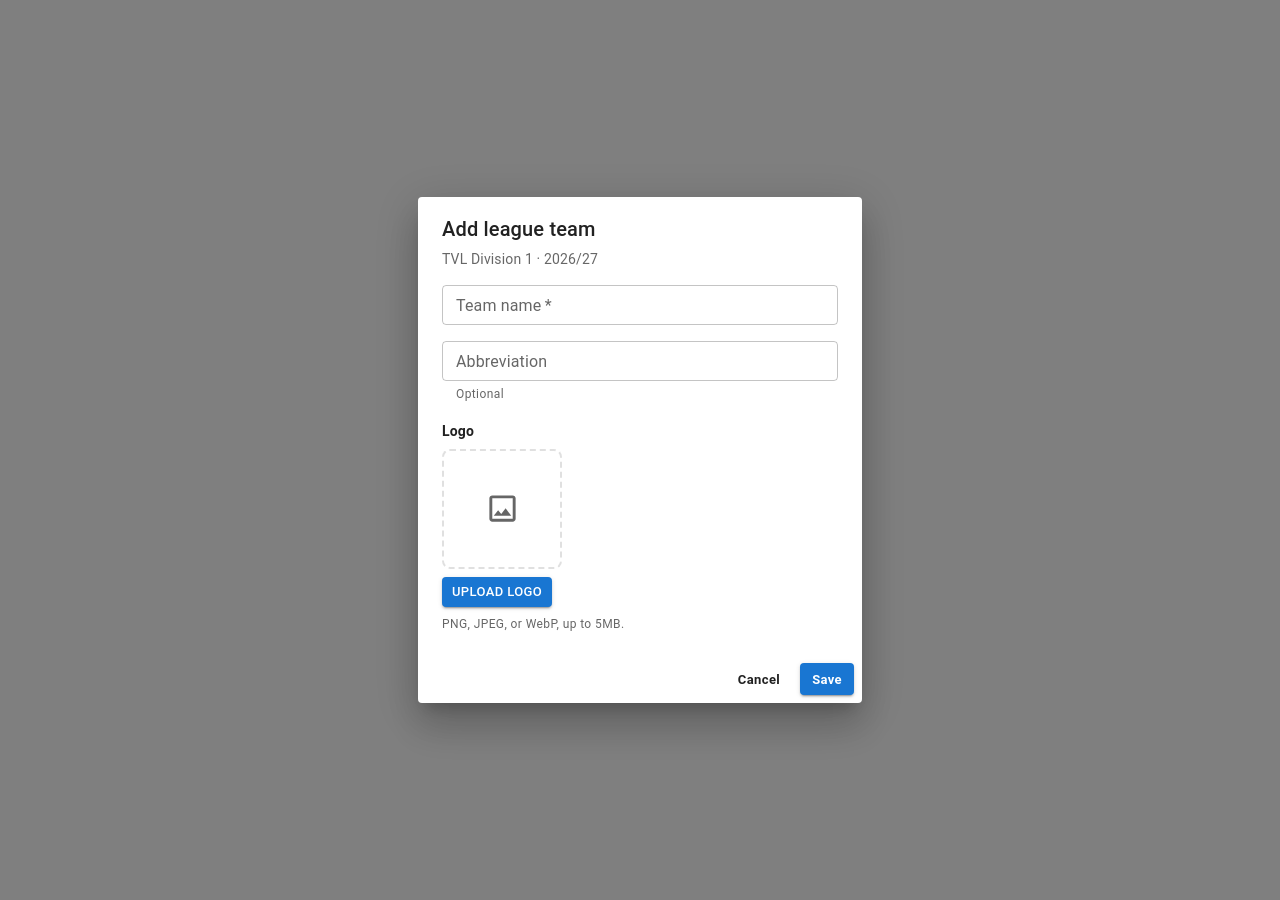
Test: LeagueTeamFormDialog › requires a name
The width and height of the screenshot is (1280, 900).
Step 1. Click the button "Save" → (827, 679), box [800,663,854,695]
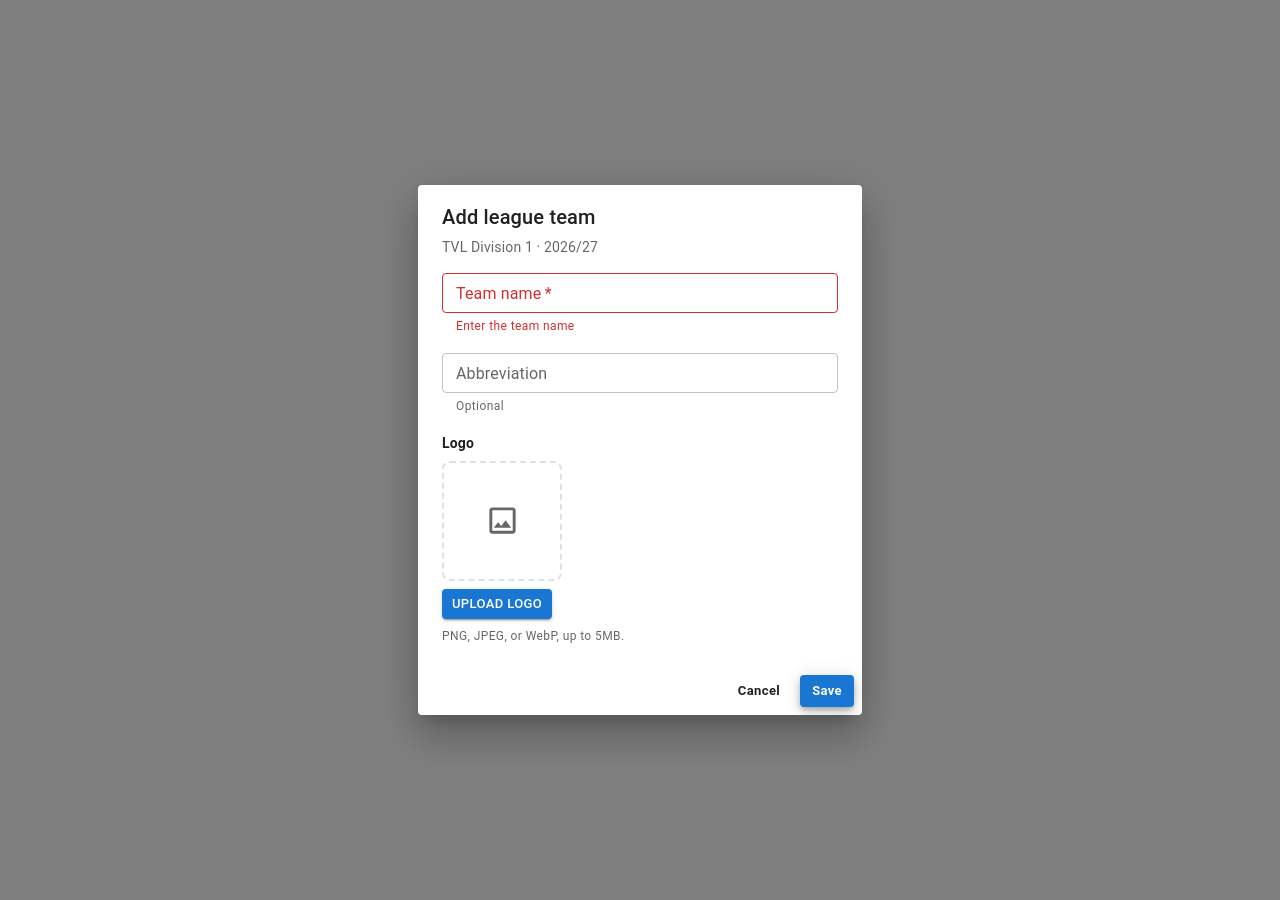
Now the text "Enter the team name" is shown, box [456,319,575,333]
